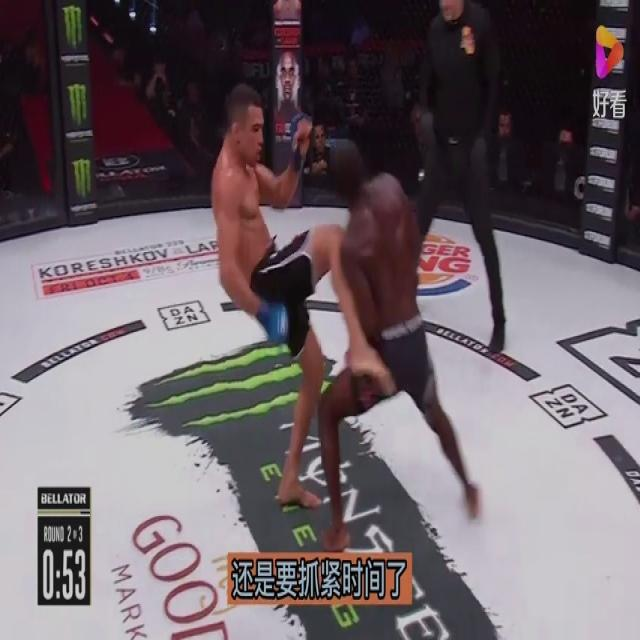fight: (209, 80, 481, 553)
